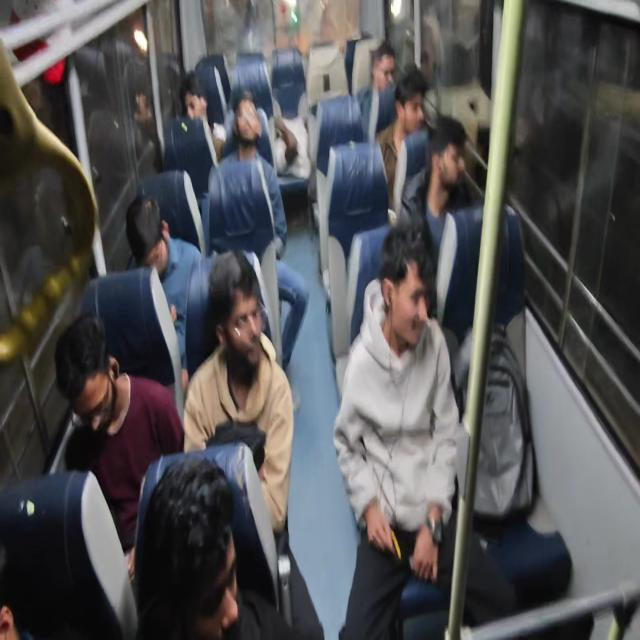person: (333, 220, 515, 638), (54, 312, 184, 579), (182, 248, 294, 535), (208, 93, 310, 374), (399, 115, 525, 341), (134, 455, 240, 638), (125, 193, 205, 386), (208, 92, 288, 260), (375, 66, 429, 217), (165, 70, 220, 204), (356, 41, 396, 136), (130, 78, 162, 178)
